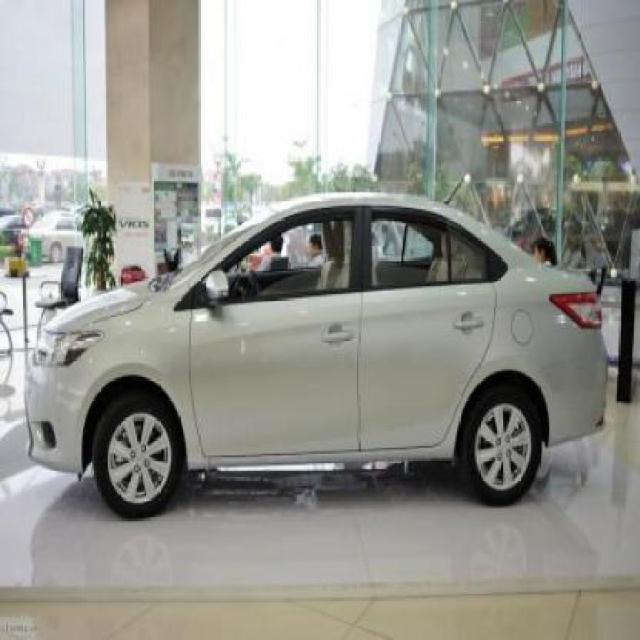ToyotaVios: (22, 187, 609, 518)
